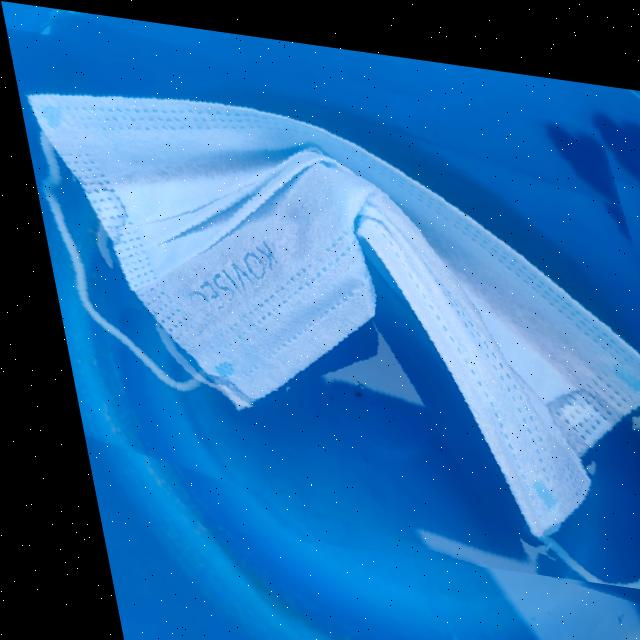mask: (4, 25, 640, 583)
